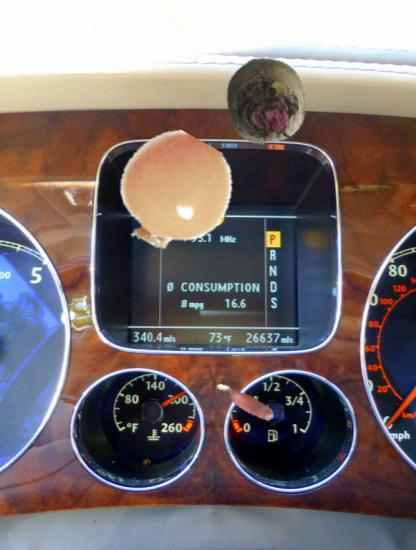Banana: (213, 367, 280, 434)
Beetroot: (221, 56, 311, 146)
Physalis: (113, 134, 233, 254)
